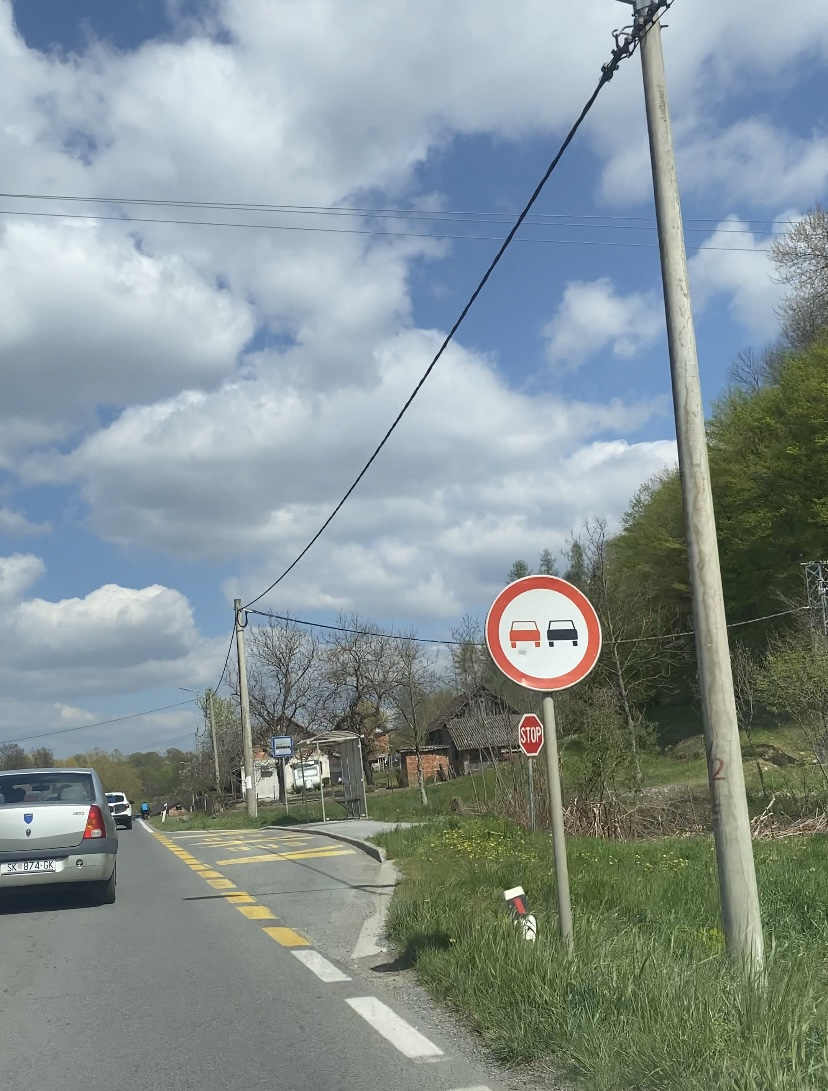Obavezno zaustavljanje: (518, 713, 544, 756)
Zabrana pretjecanja: (485, 574, 602, 692)
